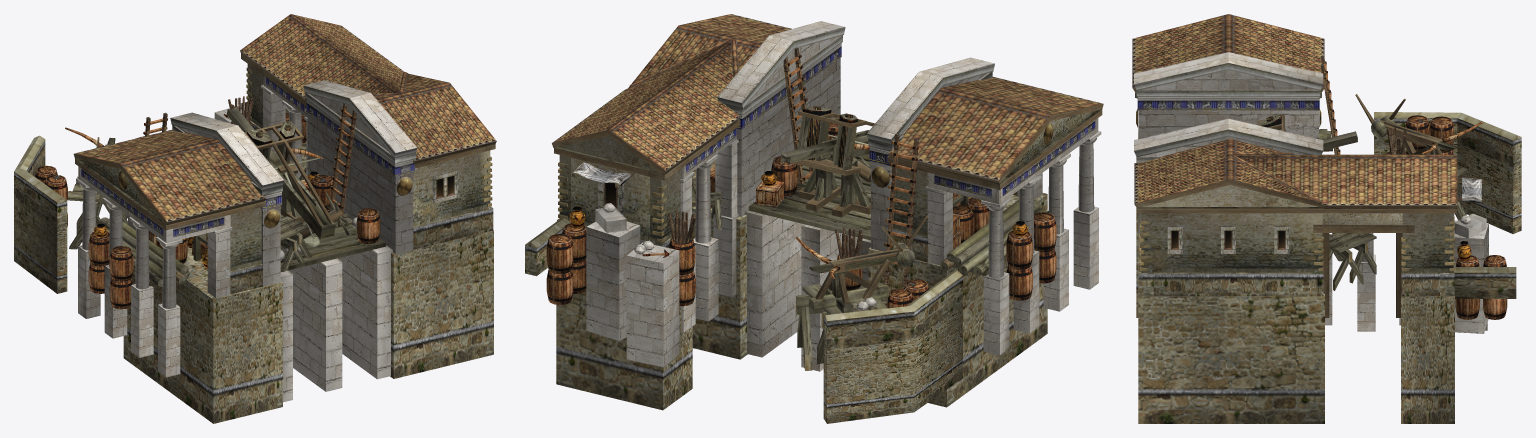
File: s_hellenes_workshop.glb
The picture shows the model from 3 angles, left to right: view 1: azimuth 30°, elevation 25°; view 2: azimuth 150°, elevation 25°; view 3: azimuth 270°, elevation 25°; orthographic projection. The views are drawn at different scales.
Visible parts, largest first — view 1: s_hellenes_workshop_part0, s_hellenes_workshop_part2, s_hellenes_workshop_part1; view 2: s_hellenes_workshop_part0, s_hellenes_workshop_part2, s_hellenes_workshop_part1; view 3: s_hellenes_workshop_part0, s_hellenes_workshop_part2, s_hellenes_workshop_part1.
Part boxes in pixels (box(x1,y1,x2,y2)): s_hellenes_workshop_part0: box(14, 14, 496, 423); s_hellenes_workshop_part2: box(76, 75, 417, 402); s_hellenes_workshop_part1: box(35, 96, 458, 309); s_hellenes_workshop_part0: box(525, 14, 1103, 423); s_hellenes_workshop_part2: box(586, 21, 1101, 371); s_hellenes_workshop_part1: box(546, 48, 1056, 308); s_hellenes_workshop_part0: box(1132, 14, 1521, 423); s_hellenes_workshop_part2: box(1134, 52, 1488, 333); s_hellenes_workshop_part1: box(1167, 56, 1507, 319).
Size of the model in its own units: 5 by 3.51 by 4.85.
3 materials, 3 textured.
